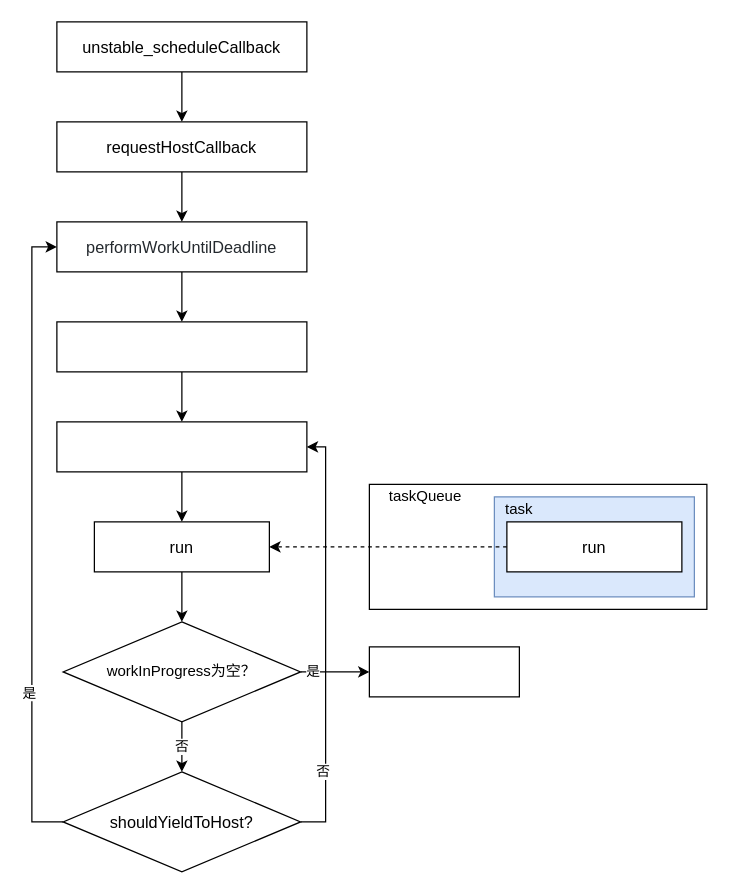
The diagram is 729 pixels wide and 894 high, and some of its shapes have lost their labels. The shapes that lost their labels are listed below. From the top down, each one's centre as x and y in pixels, then its label:
point 181,346: flushWork
point 181,446: workLoop
point 443,671: 结束
